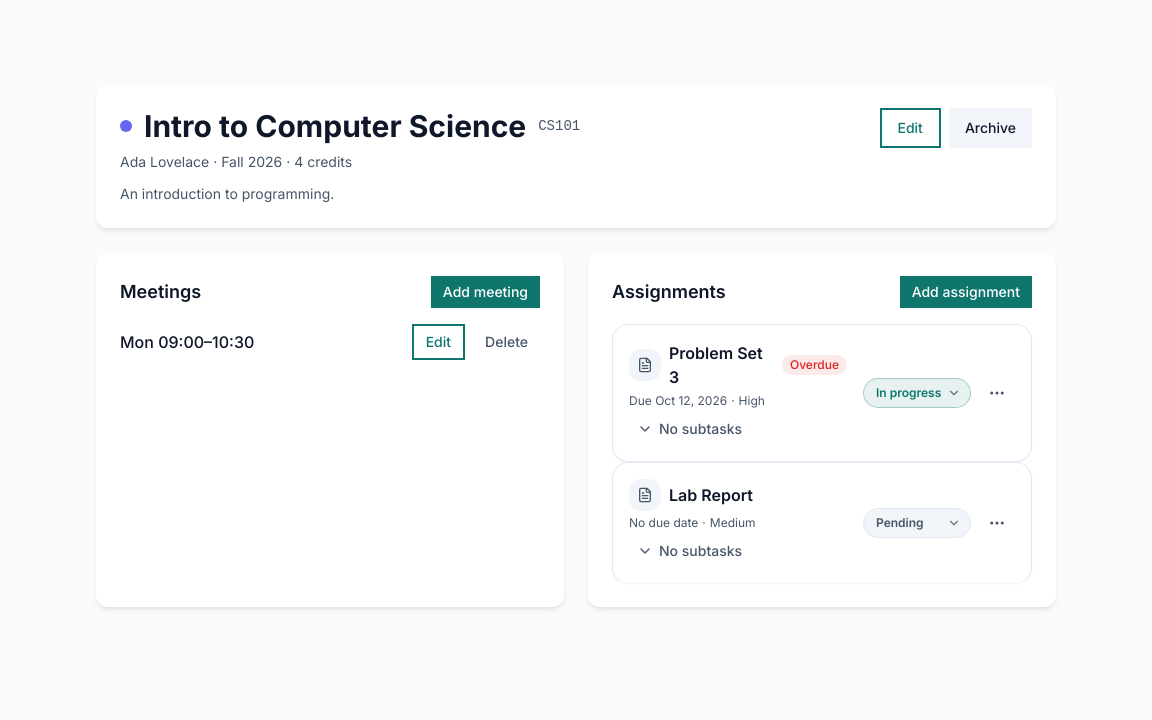
CourseDetailPage page states (AC 1/5, DoD 5) › clears the status when opening Delete and re-announces consecutive deletions
Click the button named "Actions for Problem Set 3" at coordinates (997, 393), box [979,375,1015,411]
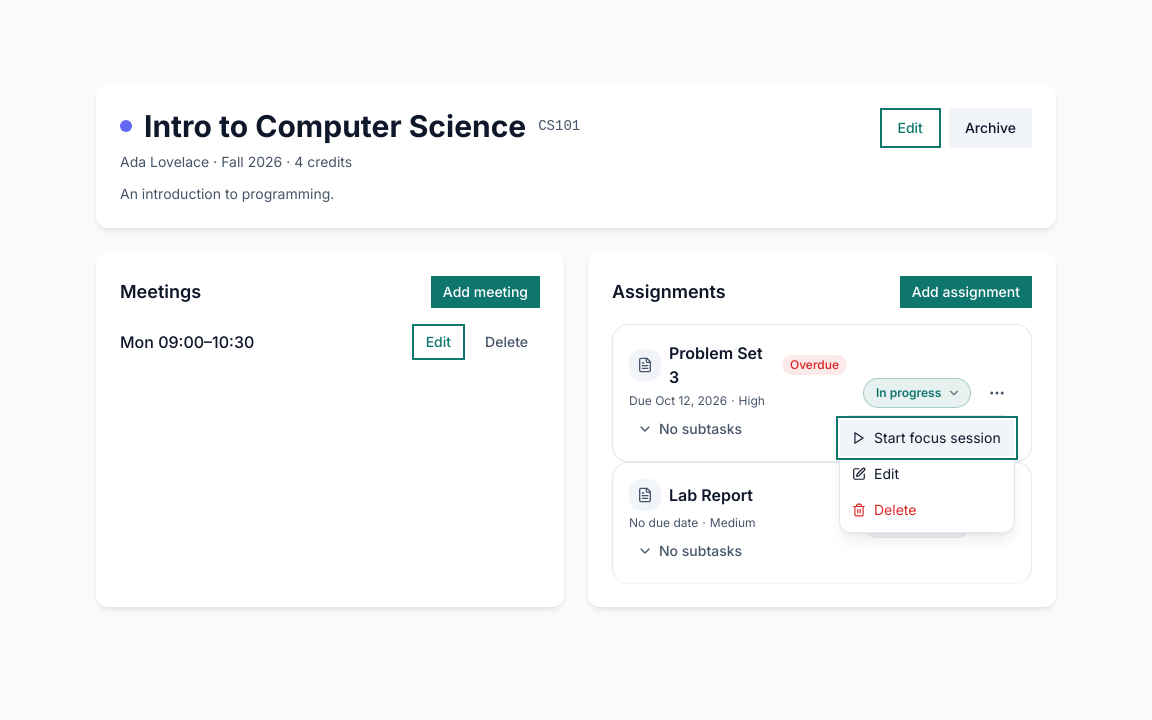
Click the menu item with aria-label "Delete Problem Set 3" at coordinates (927, 510), box [840,492,1014,528]
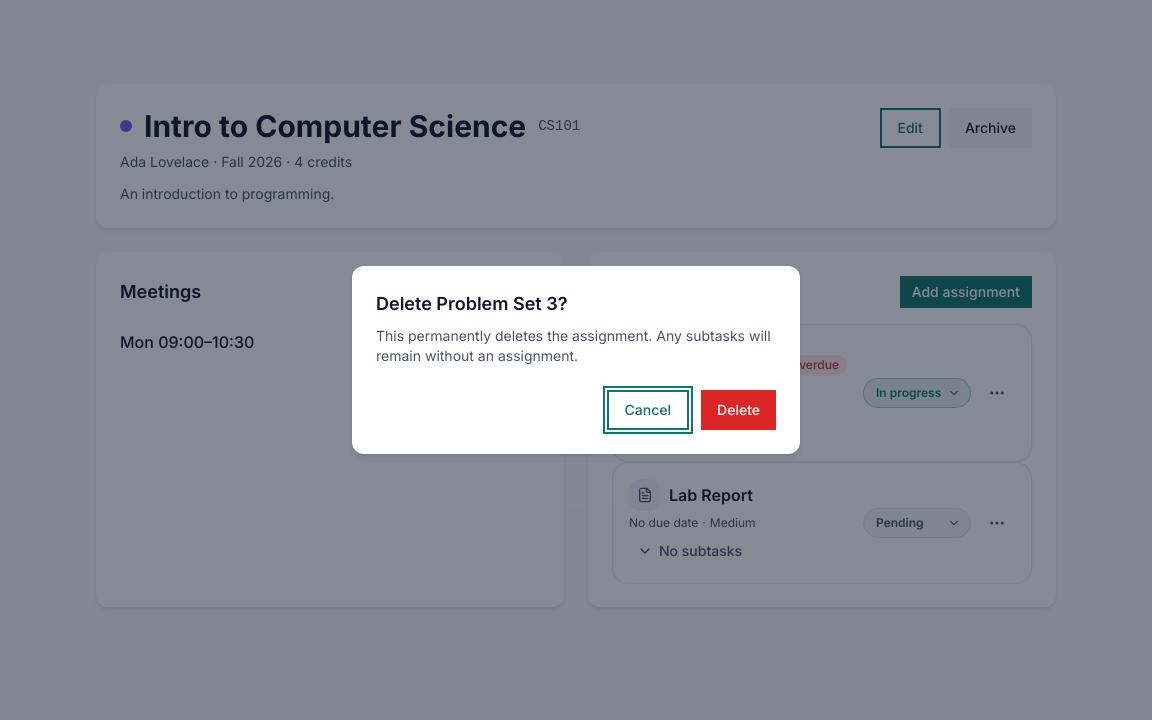
Expected: the message is empty, [96,48,1056,68]
Click the button with aria-label "Delete Problem Set 3" at coordinates (739, 410), box [701,390,776,430]
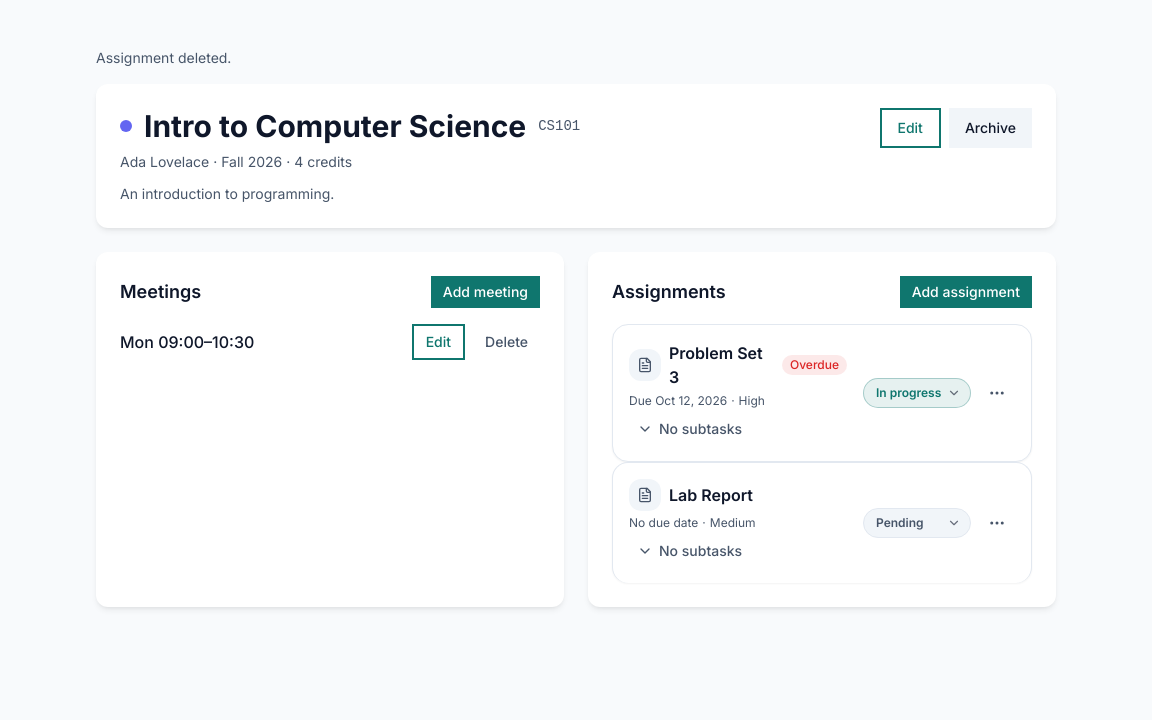
Expected: the dialog is gone
Expected: the message reads "Assignment deleted.", [96,49,231,66]
Click the button named "Actions for Lab Report" at coordinates (997, 523), box [979,505,1015,541]
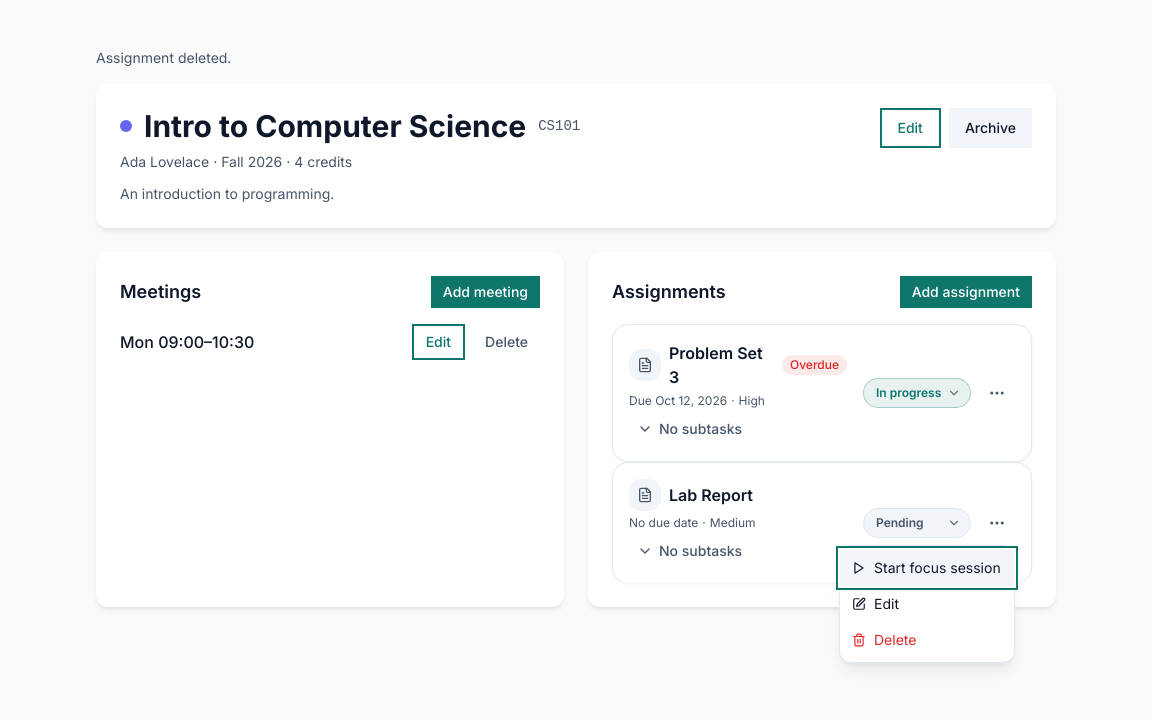
Click the menu item "Delete" at coordinates (927, 640), box [840,622,1014,658]
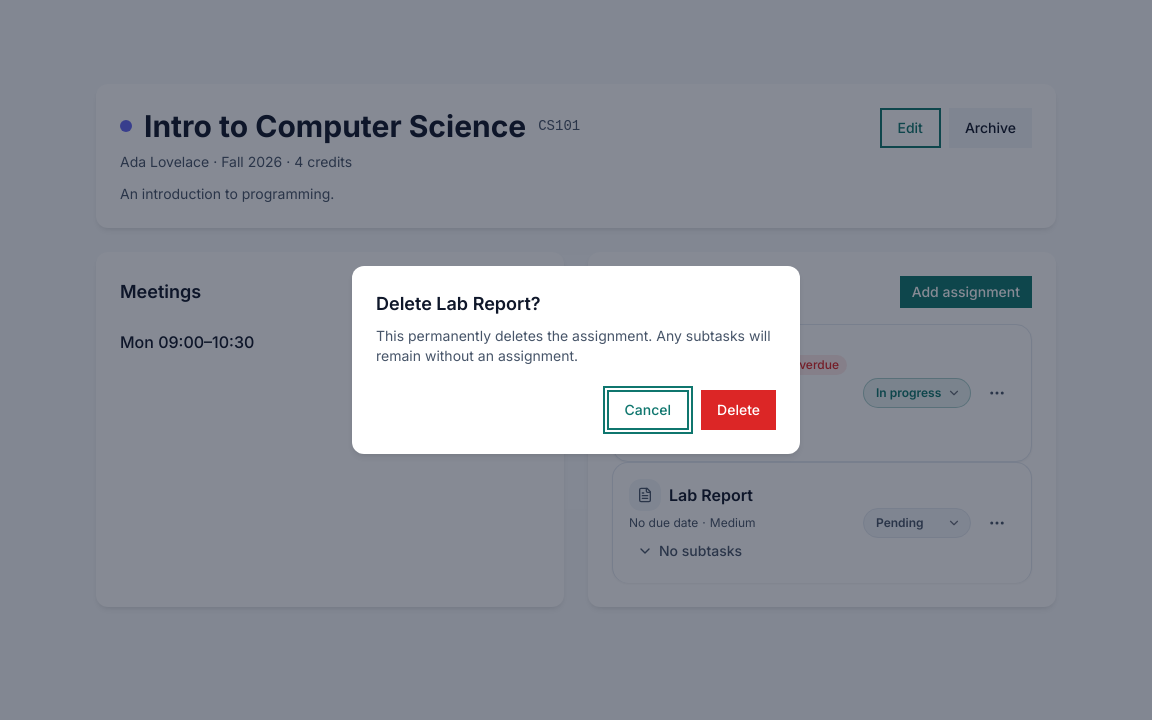
Expected: the message is empty, [96,48,1056,68]
Click the button "Delete" at coordinates (739, 410), box [701,390,776,430]
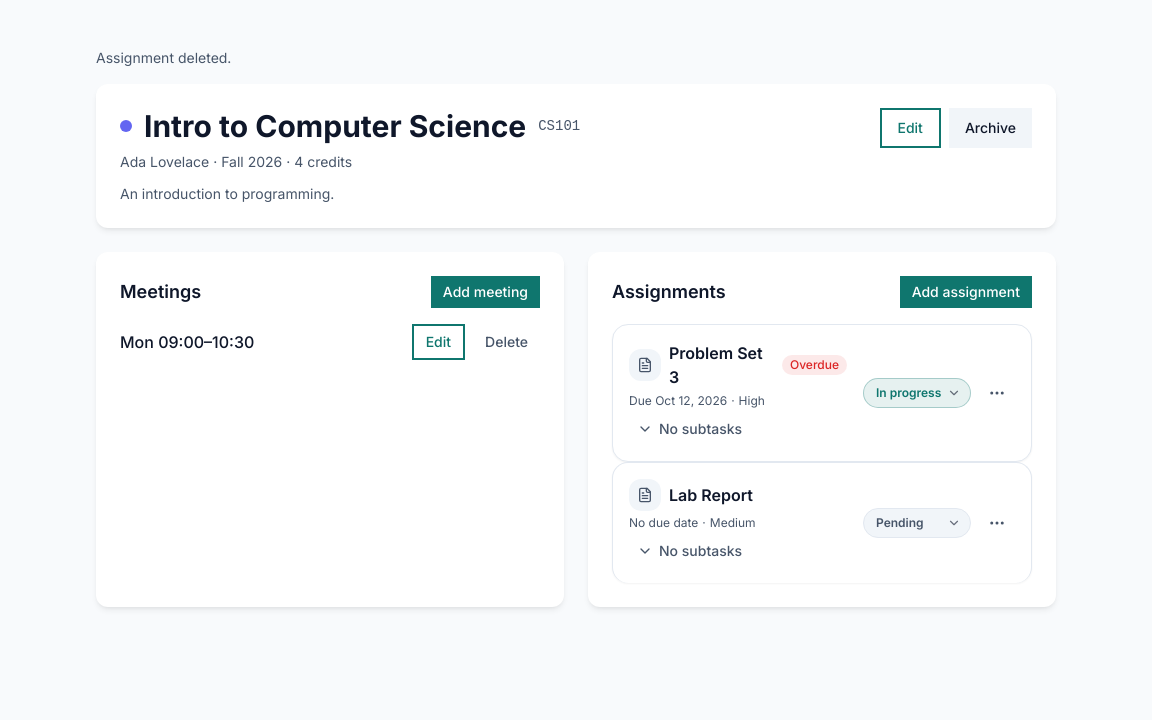
Expected: the dialog is gone
Expected: the message reads "Assignment deleted.", [96,49,231,66]
